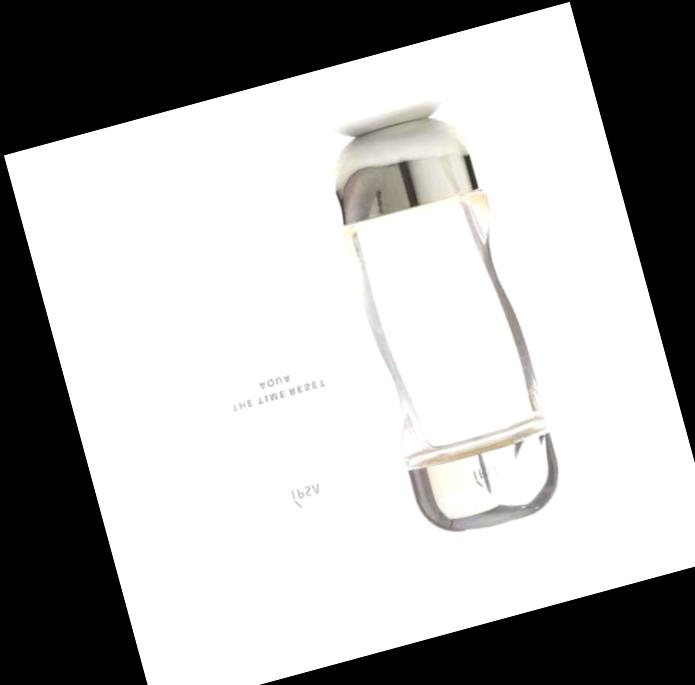cosmetic: (319, 101, 577, 543)
